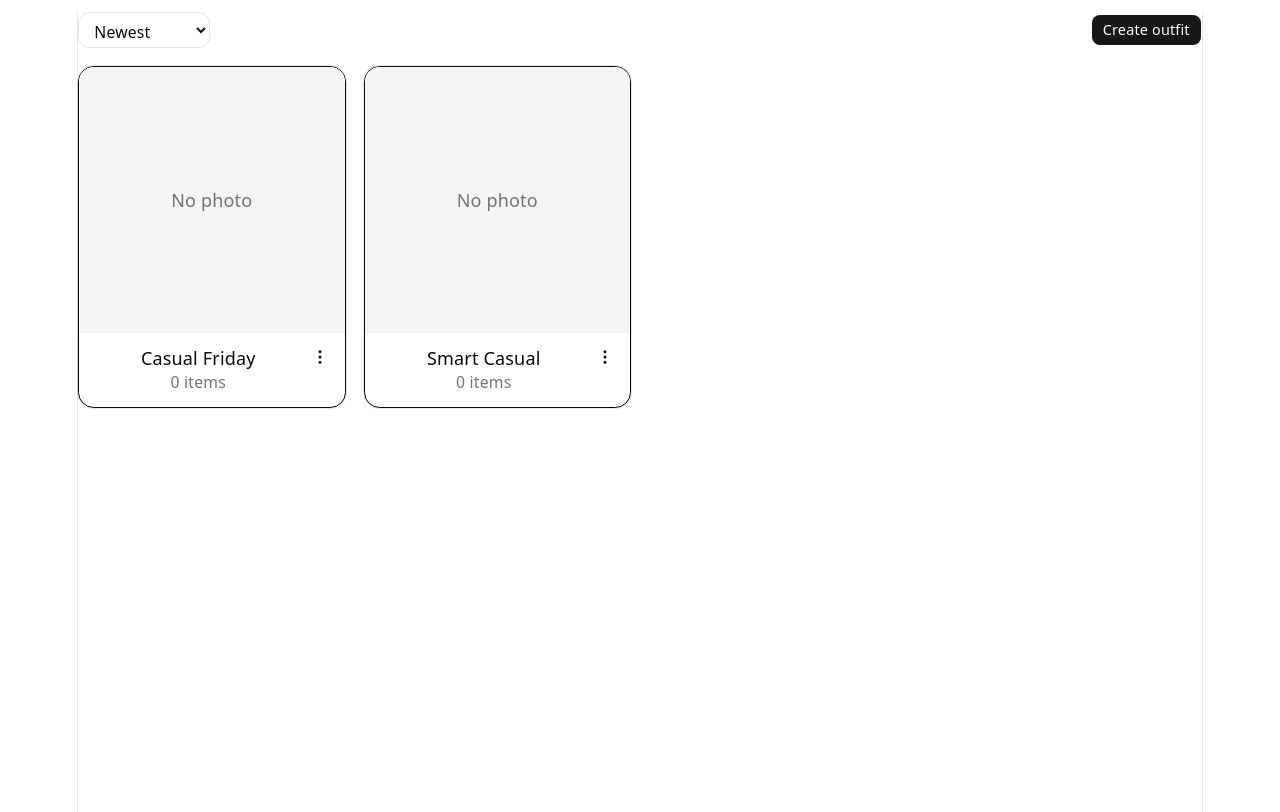
Test: OutfitsPage › OutfitsPage should navigate to edit page when Edit is clicked in context menu
Expected: the text "Casual Friday" is shown, x1=141 y1=346 x2=256 y2=370
What coordinates should you click on to do the following:
click the button named "outfit options" next to "Casual Friday"
I would click on:
 (320, 357)
Its box is x1=308 y1=346 x2=331 y2=368.
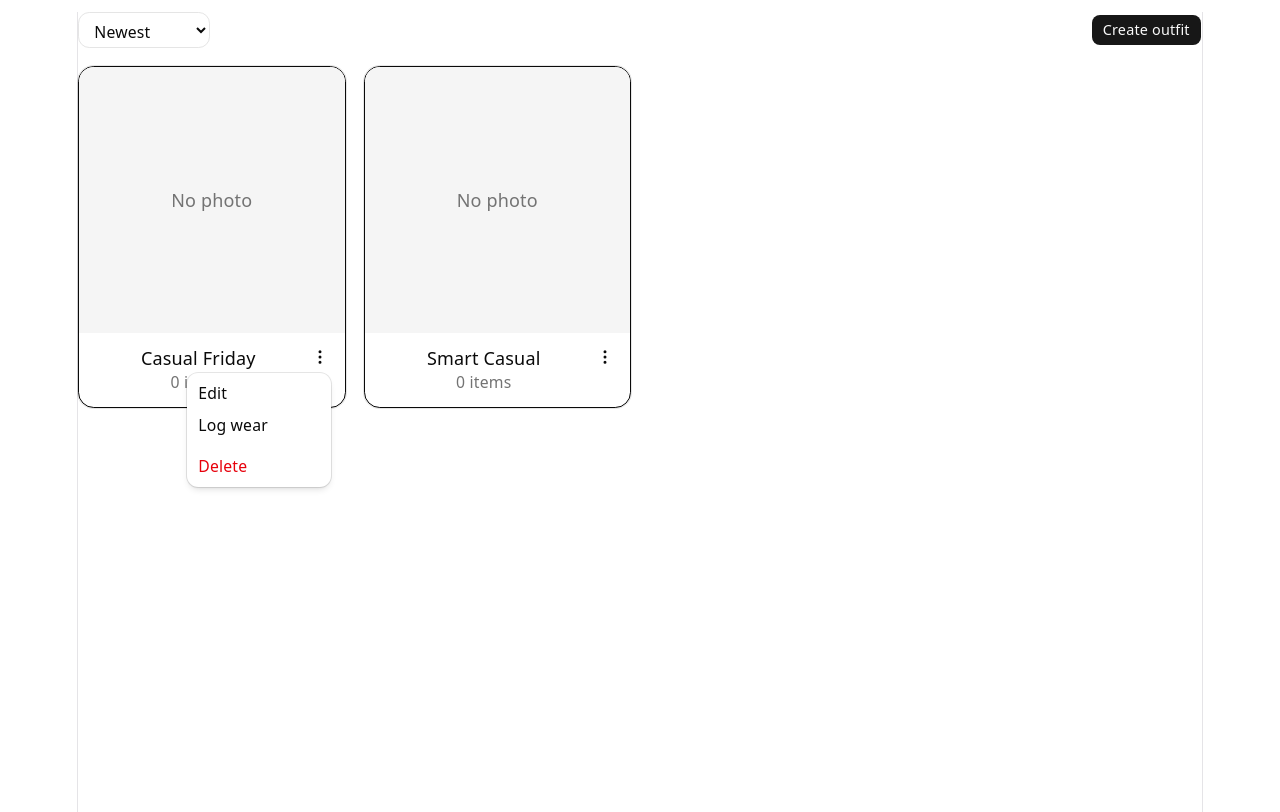
What coordinates should you click on to do the following:
click the menu item "Edit"
I would click on:
 (213, 393)
Its box is x1=198 y1=382 x2=227 y2=404.
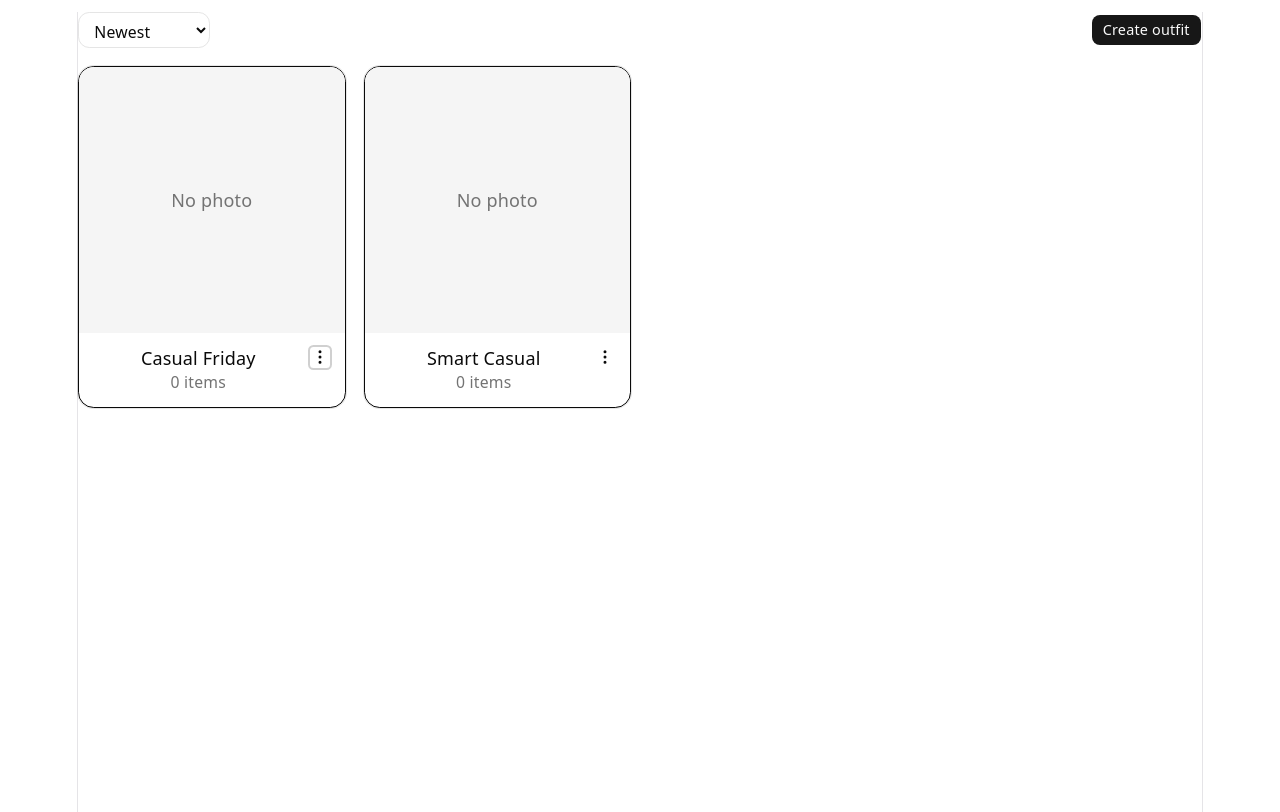
Result: the menu item "Edit" is gone
